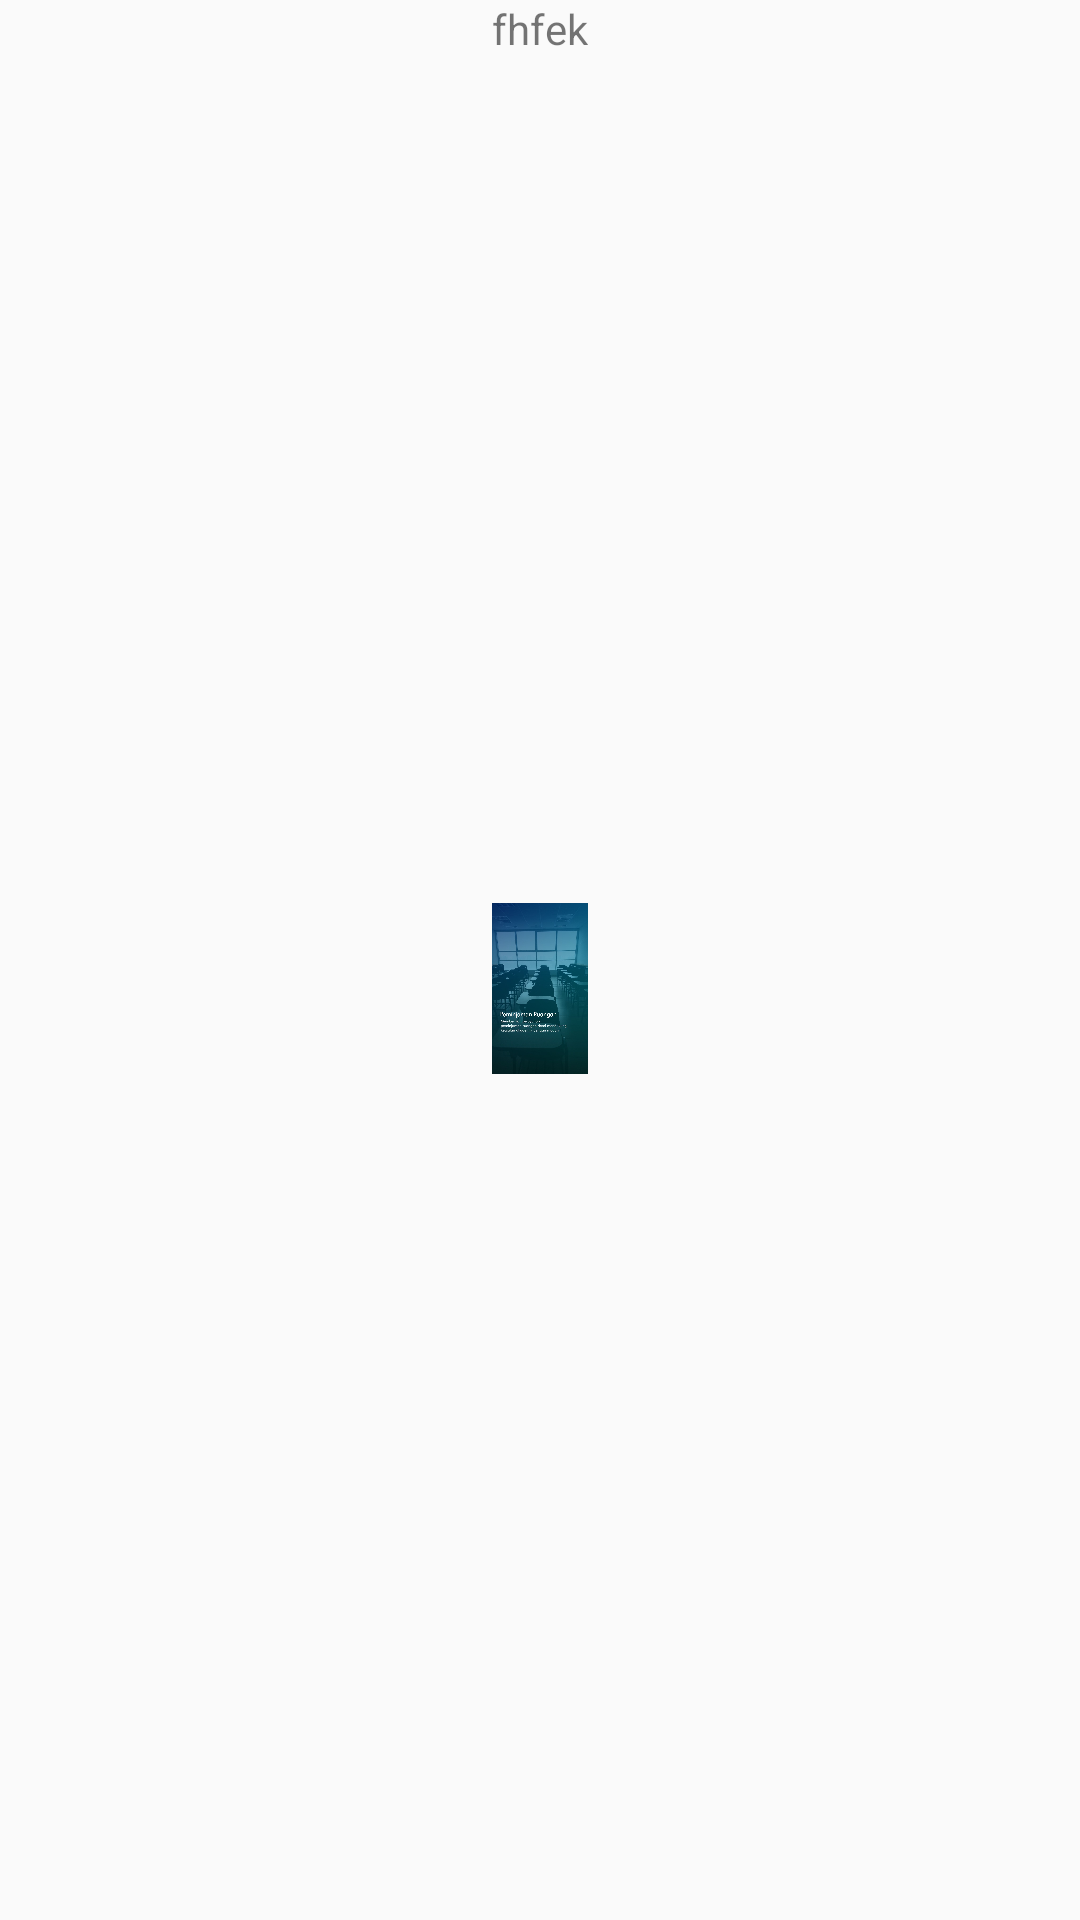

Where to tap for icons on this 1080px×1920px app screen, as point (x, y):
slider pr: point (540, 988)
